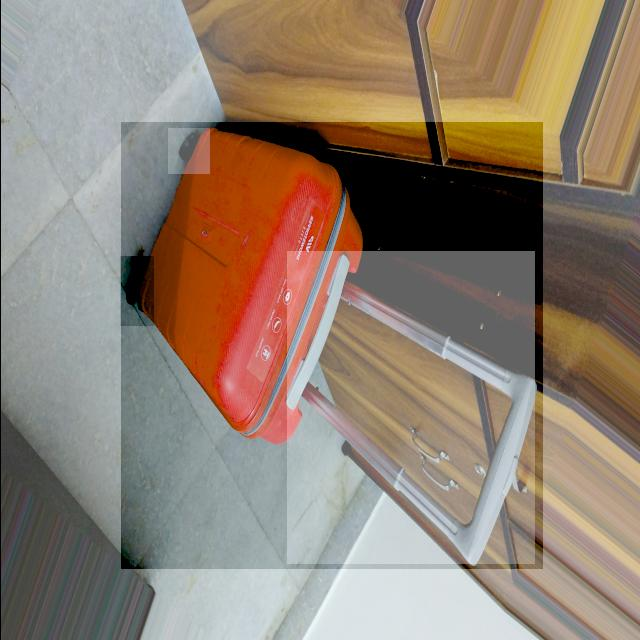Bag: (113, 120, 538, 585)
Handle: (289, 255, 537, 566)
